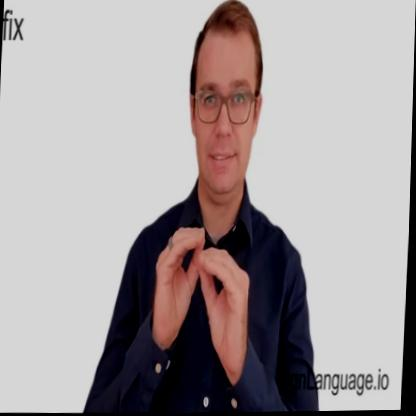Fix: (147, 213, 255, 383)
